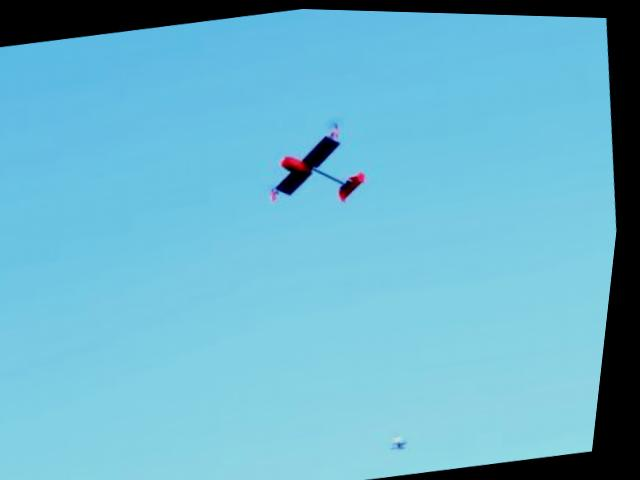uav: (249, 107, 385, 227)
